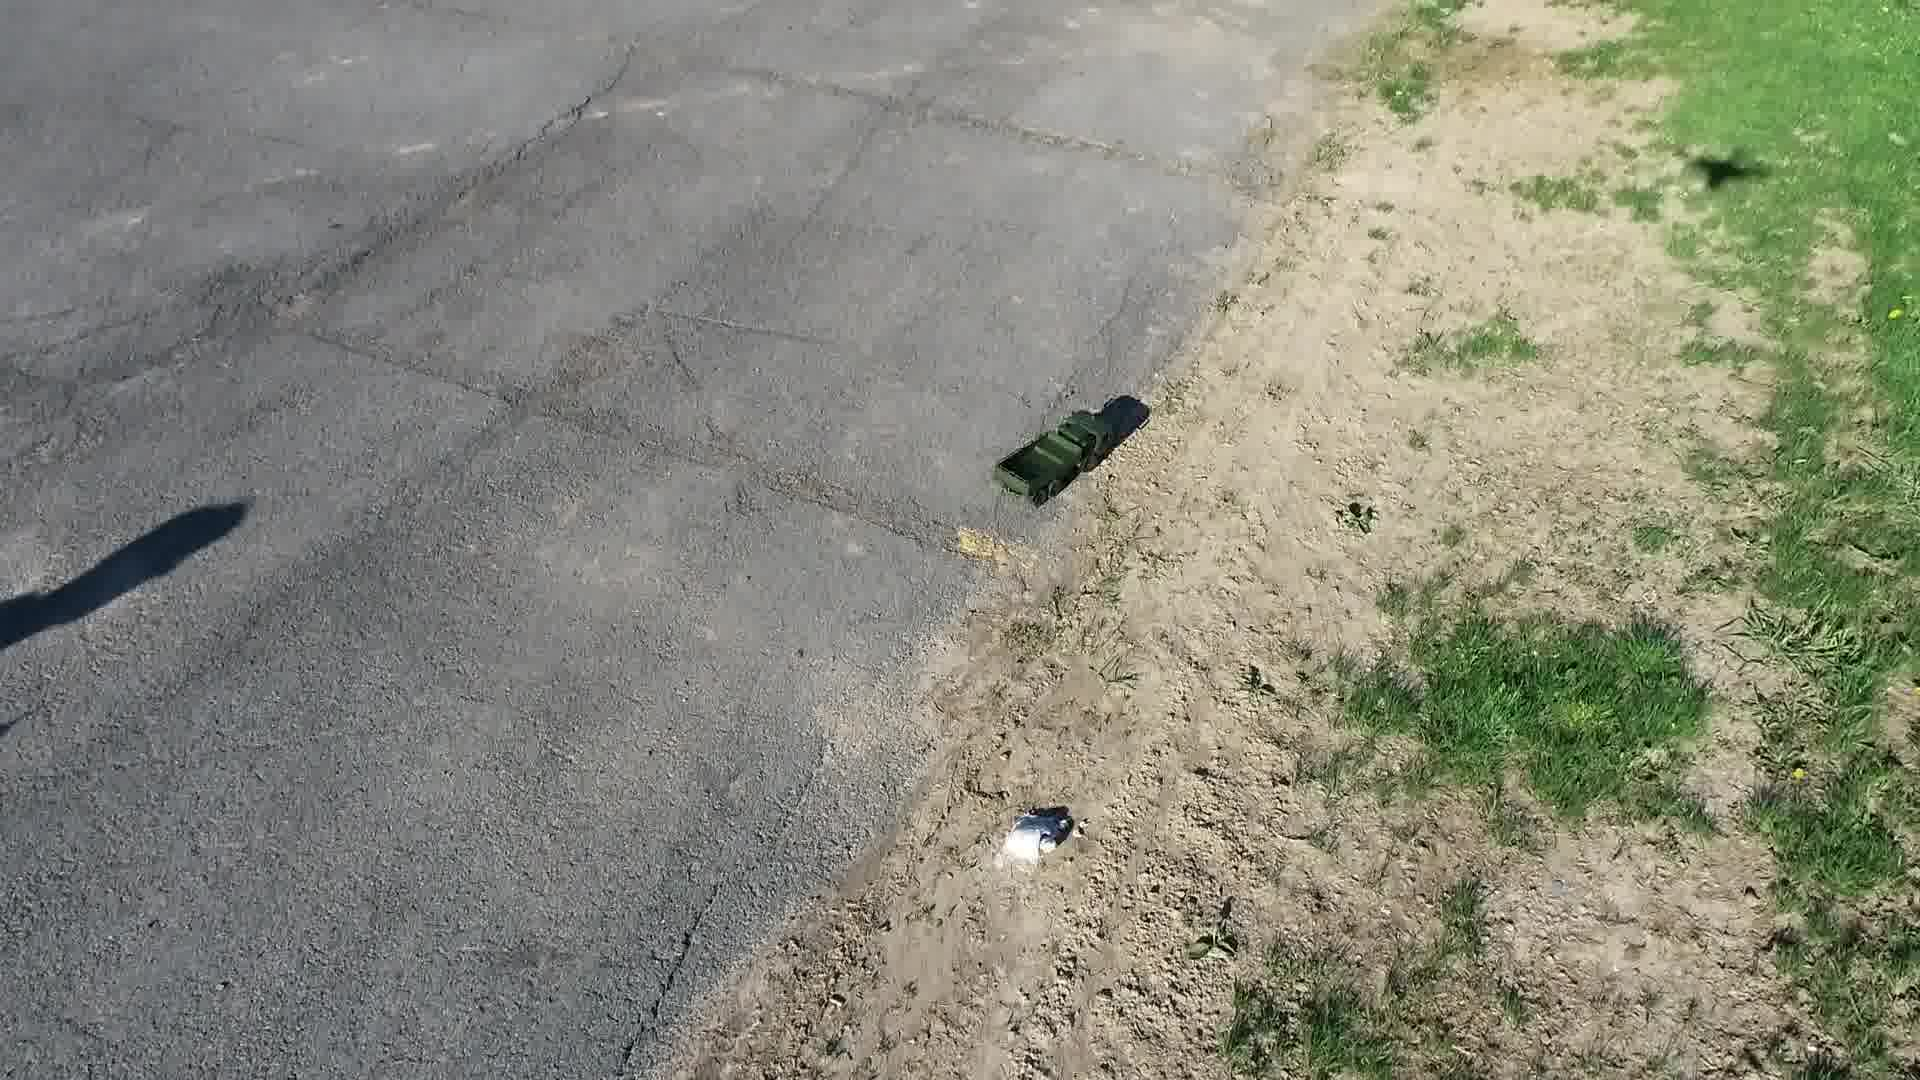transporter9: (985, 392, 1122, 514)
